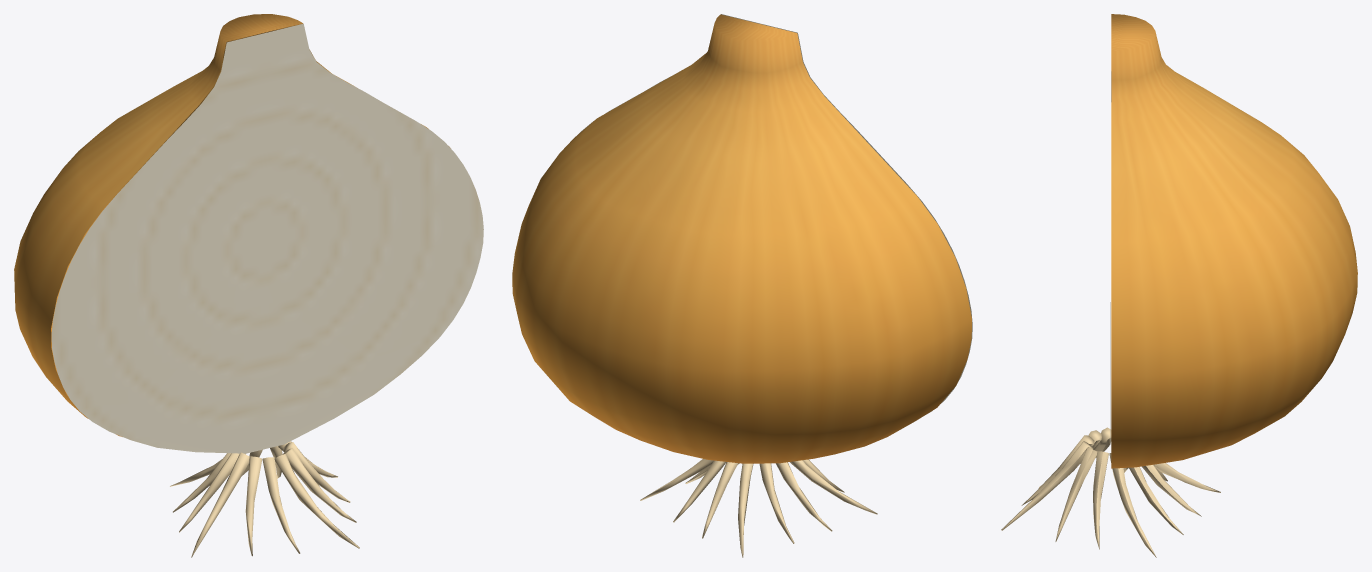
Rendered from NP_Onion_CutHalf_LOD1.fbx.
The picture shows the model from 3 angles, left to right: view 1: azimuth 30°, elevation 25°; view 2: azimuth 150°, elevation 25°; view 3: azimuth 270°, elevation 25°; orthographic projection.
Parts seen in each view (by area): view 1: NP_Onion_CutHalf.001; view 2: NP_Onion_CutHalf.001; view 3: NP_Onion_CutHalf.001.
Part boxes in pixels (x1=…): NP_Onion_CutHalf.001: x1=14, y1=14, x2=483, y2=557; NP_Onion_CutHalf.001: x1=512, y1=14, x2=972, y2=557; NP_Onion_CutHalf.001: x1=1001, y1=14, x2=1357, y2=557.
Bounding box in the file's own units: 43.49 × 46.67 × 31.47.
